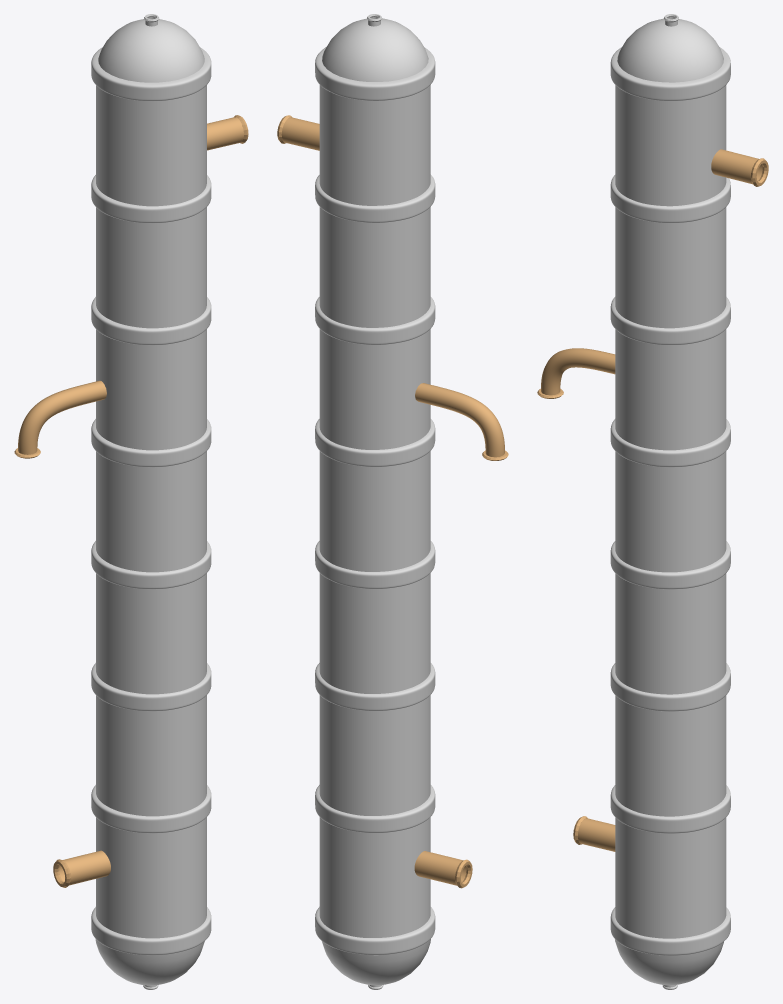
File: asset.glb
3 views of the same model, side by side, from view 1: azimuth 30°, elevation 25°; view 2: azimuth 150°, elevation 25°; view 3: azimuth 330°, elevation 25° (orthographic).
Visible parts, largest first — view 1: Cylinder.006, Cylinder, Sphere, Sphere.001, NurbsPath.001, Cylinder.002, Cylinder.003; view 2: Cylinder.006, Cylinder, Sphere, Sphere.001, NurbsPath.001, Cylinder.002, Cylinder.003; view 3: Cylinder.006, Cylinder, Sphere, Sphere.001, NurbsPath.001, Cylinder.003, Cylinder.002.
Boxes of the visible parts, x1,y1,x2,y2 form: Cylinder.006: (96, 85, 206, 938); Cylinder: (91, 47, 211, 955); Sphere: (98, 19, 204, 82); Sphere.001: (95, 939, 204, 985); NurbsPath.001: (18, 380, 106, 454); Cylinder.002: (59, 850, 110, 885); Cylinder.003: (207, 117, 243, 150); Cylinder.006: (319, 85, 430, 937); Cylinder: (315, 47, 435, 955); Sphere: (322, 18, 428, 81); Sphere.001: (322, 939, 430, 985); NurbsPath.001: (415, 383, 504, 457); Cylinder.002: (414, 851, 466, 885); Cylinder.003: (281, 117, 319, 150); Cylinder.006: (615, 85, 726, 938); Cylinder: (610, 47, 730, 955); Sphere: (617, 18, 723, 82); Sphere.001: (615, 939, 723, 985); NurbsPath.001: (541, 348, 615, 395); Cylinder.003: (711, 149, 762, 184); Cylinder.002: (578, 818, 615, 851).
Size of the model in its own units: 5.41 by 22.36 by 2.51.
